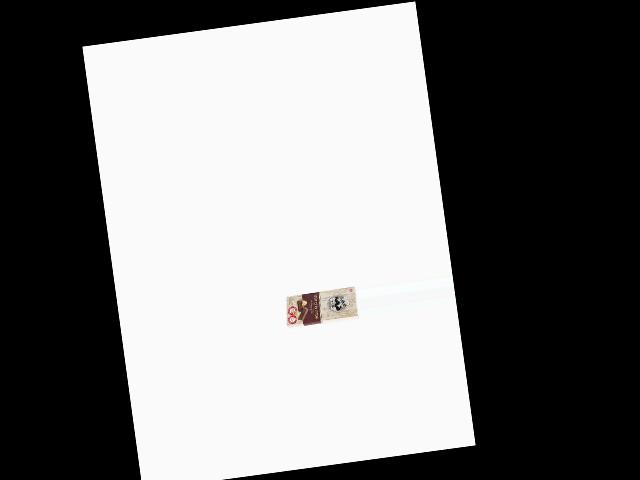chocolate: (281, 285, 359, 333)
